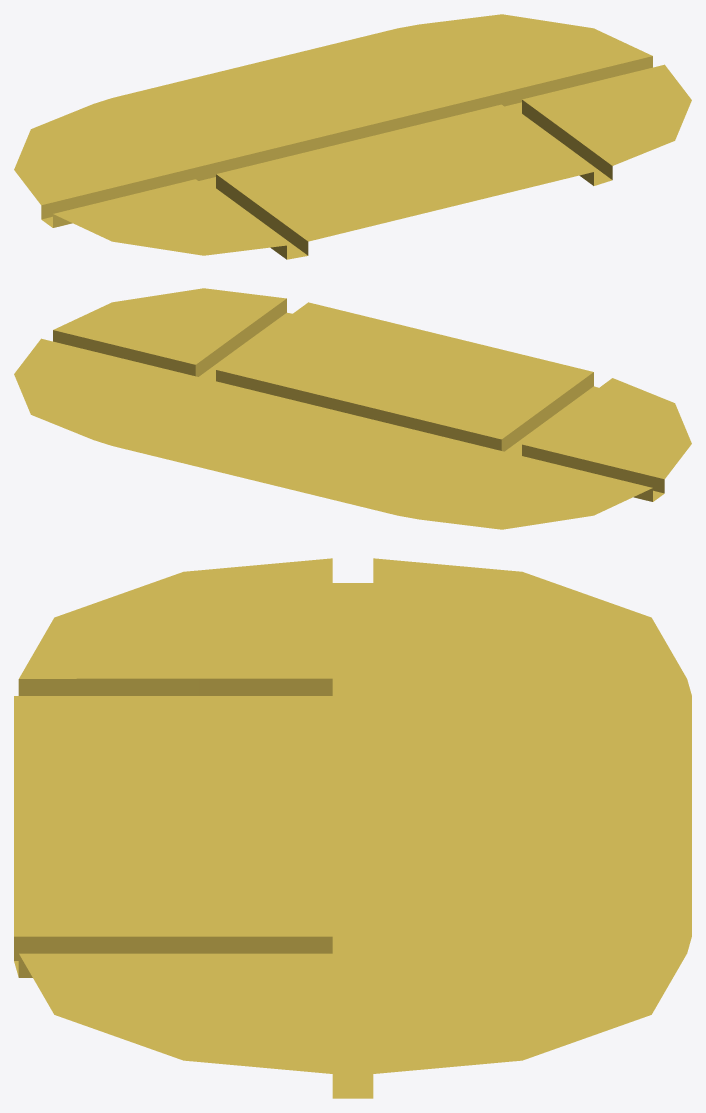
The model's file is plancher.FBX.
The picture shows the model from 3 angles, top to bottom: view 1: azimuth 30°, elevation 25°; view 2: azimuth 150°, elevation 25°; view 3: azimuth 270°, elevation 25°; orthographic projection. The views are drawn at different scales.
Parts seen in each view (by area): view 1: Plane001; view 2: Plane001; view 3: Plane001.
Part boxes in pixels (x1,y1,x2,y2): Plane001: [14, 14, 691, 259]; Plane001: [14, 288, 691, 529]; Plane001: [14, 558, 691, 1098].
Bounding box in the file's own units: 8621 × 192 × 4789.
